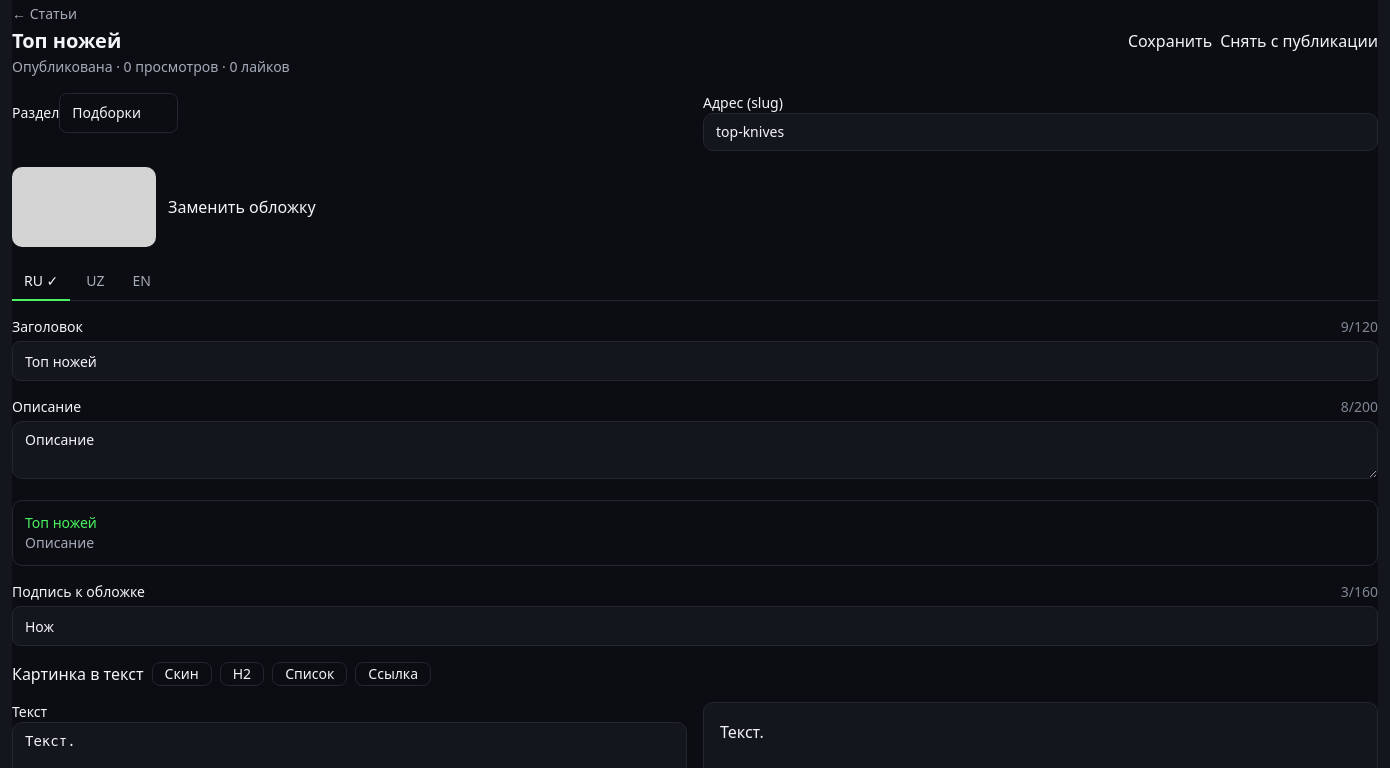
Test: ArticleEditor › warns about the redirect when renaming a published article
Check: the text "будет перенаправлять" is not shown
Replace the text in the field showing "top-knives" with "best-knives" at x=1040, y=132, box [703,113,1378,151]
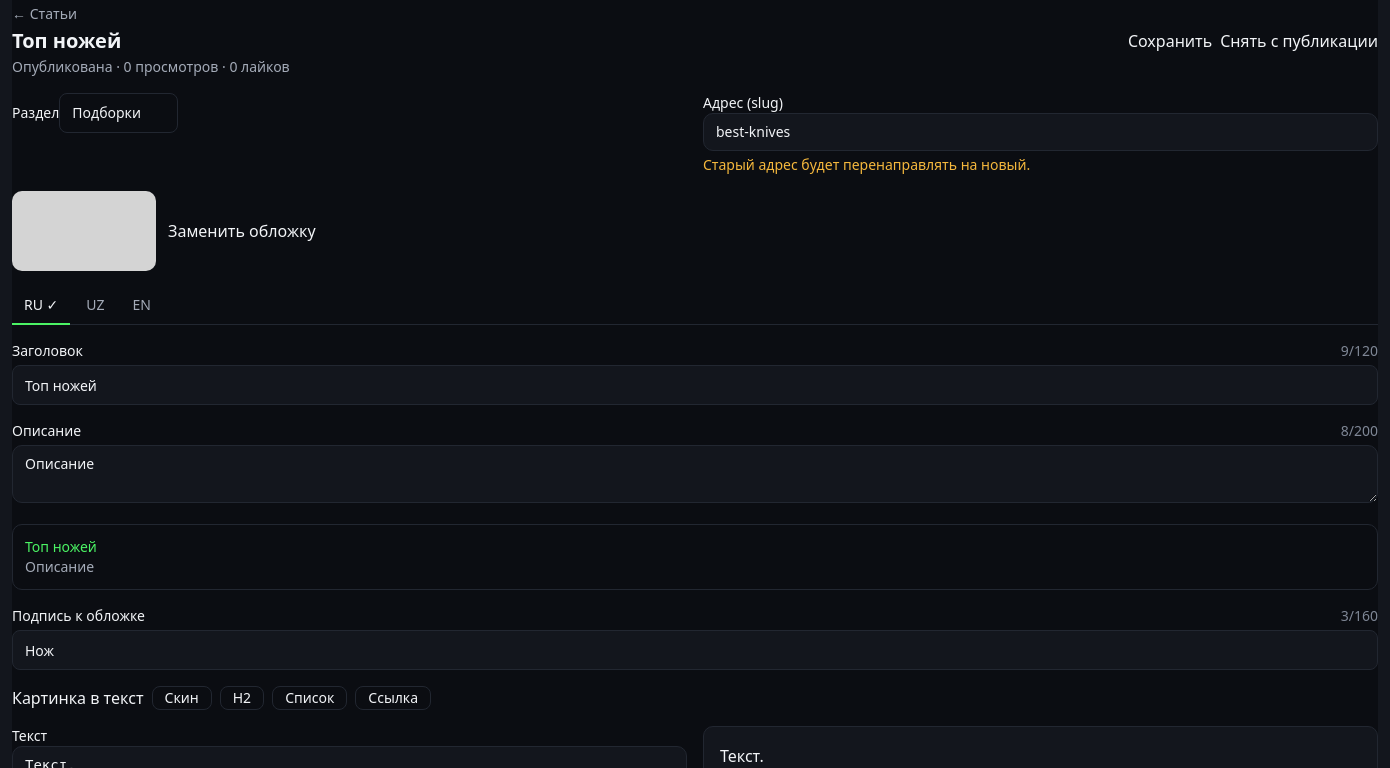
Check: the text "Старый адрес будет перенаправлять на новый." is shown, box [703,155,1030,174]
